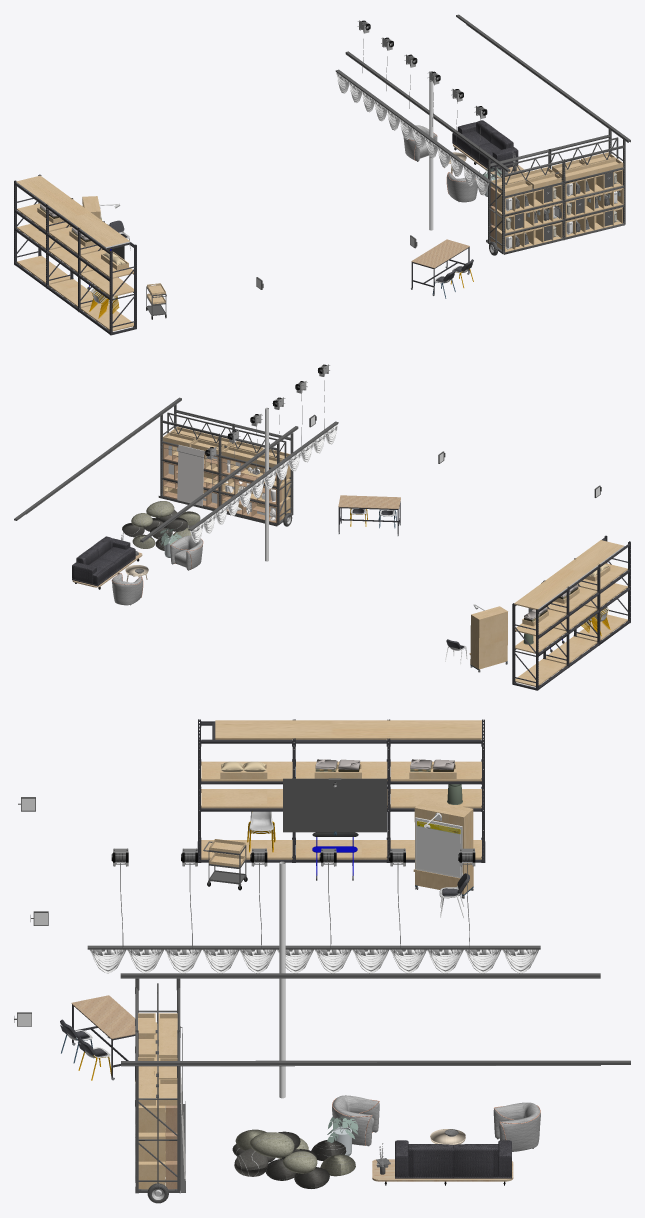
The model's file is small_hub_02.glb.
3 views of the same model, one above another, from view 1: azimuth 30°, elevation 25°; view 2: azimuth 150°, elevation 25°; view 3: azimuth 270°, elevation 25° (orthographic). The views are drawn at different scales.
Visible parts, largest first — view 1: slider_bookshelf.001, curtain, big_shelf, living_room.001, slider_bookshelf, big_shelf.013, placement, big_shelf.007, big_shelf.003, living_room.006, big_shelf.005, pile (+10 smaller); view 2: slider_bookshelf.001, curtain, big_shelf, moving_element, living_room.001, slider_bookshelf, living_room.006, big_shelf.011, placement, living_room.005, big_shelf.007, big_shelf.003 (+9 smaller); view 3: curtain, slider_bookshelf.001, big_shelf, gvc_display, slider_bookshelf, living_room.001, moving_element, mobile_whiteboard, living_room.005, placement, big_shelf.006, living_room.006 (+14 smaller).
Boxes of the visible parts, box(x1,y1,x2,y2) form: slider_bookshelf.001: box(486, 129, 625, 255); curtain: box(335, 20, 491, 195); big_shelf: box(16, 175, 130, 248); living_room.001: box(452, 120, 518, 171); slider_bookshelf: box(345, 14, 630, 171); big_shelf.013: box(78, 244, 136, 335); placement: box(411, 239, 469, 268); big_shelf.007: box(17, 255, 70, 284); big_shelf.003: box(49, 279, 99, 307); living_room.006: box(446, 172, 477, 202); big_shelf.005: box(80, 303, 133, 331); pile: box(429, 71, 433, 230); slider_bookshelf.001: box(158, 404, 293, 526); curtain: box(188, 364, 338, 542); big_shelf: box(514, 540, 624, 609); moving_element: box(469, 606, 507, 672); living_room.001: box(72, 536, 135, 586); slider_bookshelf: box(14, 397, 298, 541); living_room.006: box(170, 535, 203, 570); big_shelf.011: box(512, 603, 538, 690); placement: box(338, 495, 400, 508); living_room.005: box(111, 573, 143, 605); big_shelf.007: box(515, 659, 566, 686); big_shelf.003: box(546, 636, 597, 664); curtain: box(87, 848, 540, 973); slider_bookshelf.001: box(135, 978, 185, 1203); big_shelf: box(215, 720, 481, 739); gvc_display: box(285, 780, 384, 830); slider_bookshelf: box(120, 973, 630, 1065); living_room.001: box(395, 1140, 511, 1178); moving_element: box(413, 799, 473, 898); mobile_whiteboard: box(416, 820, 460, 876); living_room.005: box(493, 1102, 540, 1151); placement: box(71, 995, 135, 1038); big_shelf.006: box(201, 789, 282, 808); living_room.006: box(332, 1095, 379, 1146).
Size of the model in its own units: 680 by 214 by 492.
Materials: 87 (35 with a texture image).
